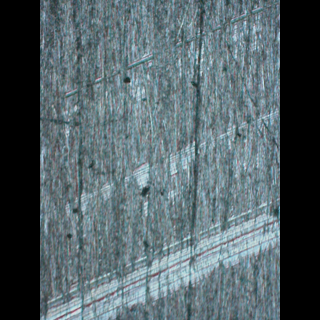d: (39, 106, 279, 230), (43, 195, 279, 319)
